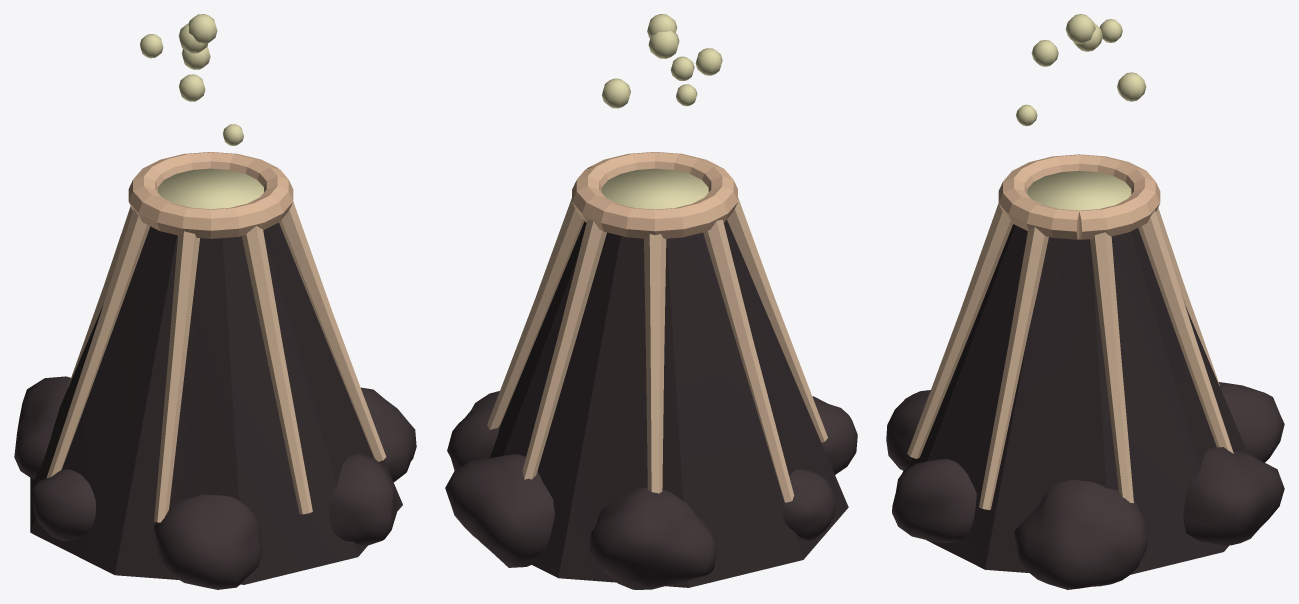
Rendered from gym_deco_volcano_lite.glb.
3 views of the same model, side by side, from view 1: azimuth 30°, elevation 25°; view 2: azimuth 150°, elevation 25°; view 3: azimuth 270°, elevation 25° (orthographic). The views are drawn at different scales.
Visible parts, largest first — view 1: Cone; view 2: Cone; view 3: Cone.
Boxes of the visible parts, left/top/right/bottom form: Cone: left=14, top=14, right=416, bottom=589; Cone: left=445, top=14, right=857, bottom=589; Cone: left=886, top=14, right=1284, bottom=589.
Size of the model in its own units: 3.79 by 4.94 by 3.59.
